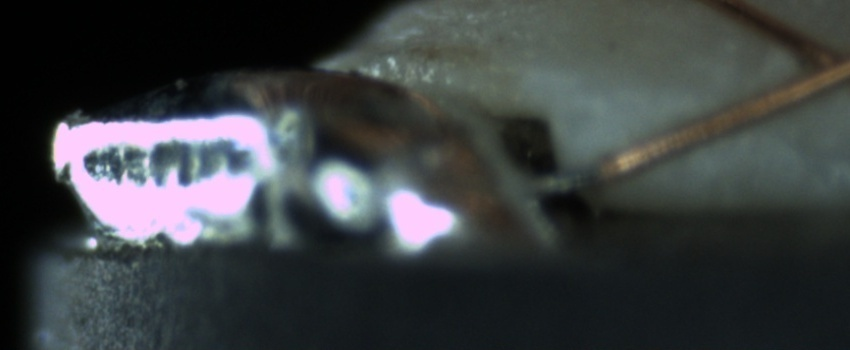TS: (536, 166, 600, 198)
